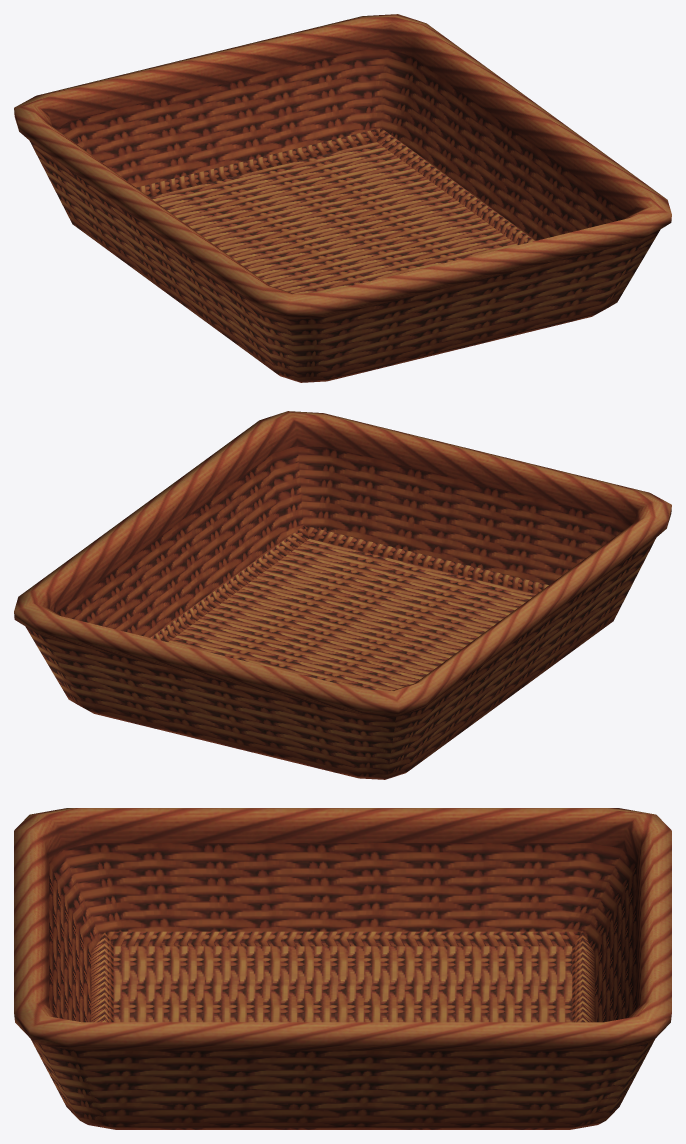
The model's file is Basket1.fbx.
3 views of the same model, one above another, from view 1: azimuth 30°, elevation 25°; view 2: azimuth 150°, elevation 25°; view 3: azimuth 270°, elevation 25° (orthographic). The views are drawn at different scales.
Visible parts, largest first — view 1: Basket_Tray_01; view 2: Basket_Tray_01; view 3: Basket_Tray_01.
Boxes of the visible parts, x1,y1,x2,y2 form: Basket_Tray_01: [14, 14, 671, 382]; Basket_Tray_01: [14, 411, 671, 779]; Basket_Tray_01: [14, 808, 671, 1129].
Size of the model in its own units: 108 by 27.44 by 132.
